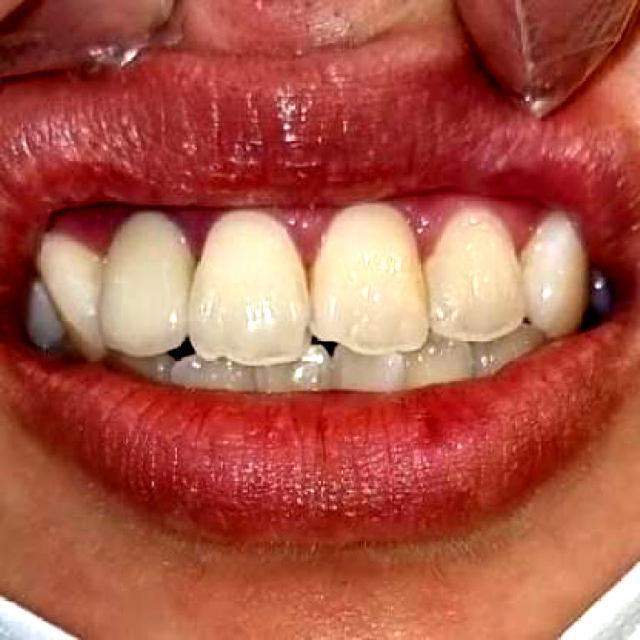Plaque: (49, 197, 243, 265)
